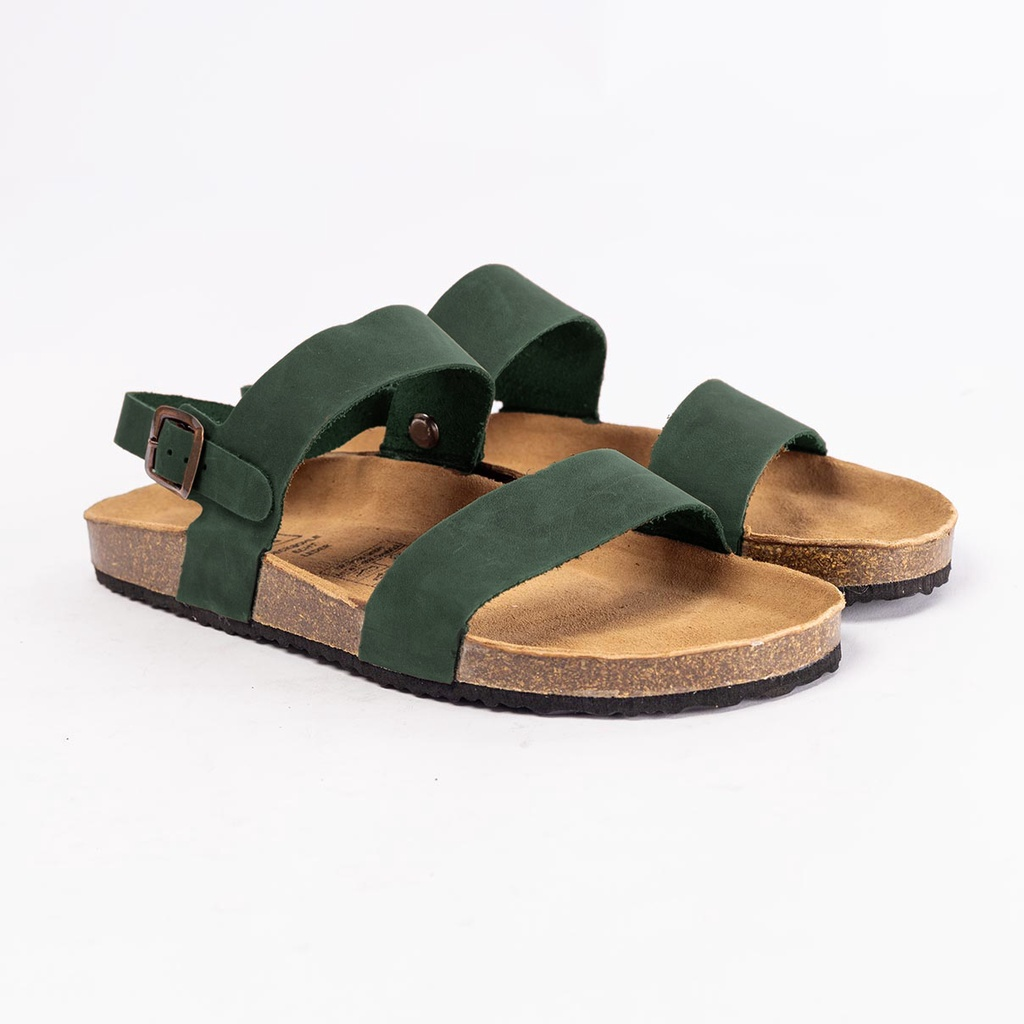sandals: (81, 308, 848, 722), (392, 258, 958, 605)
